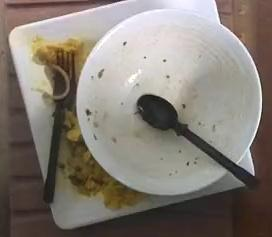rice_mix: (38, 40, 139, 210)
